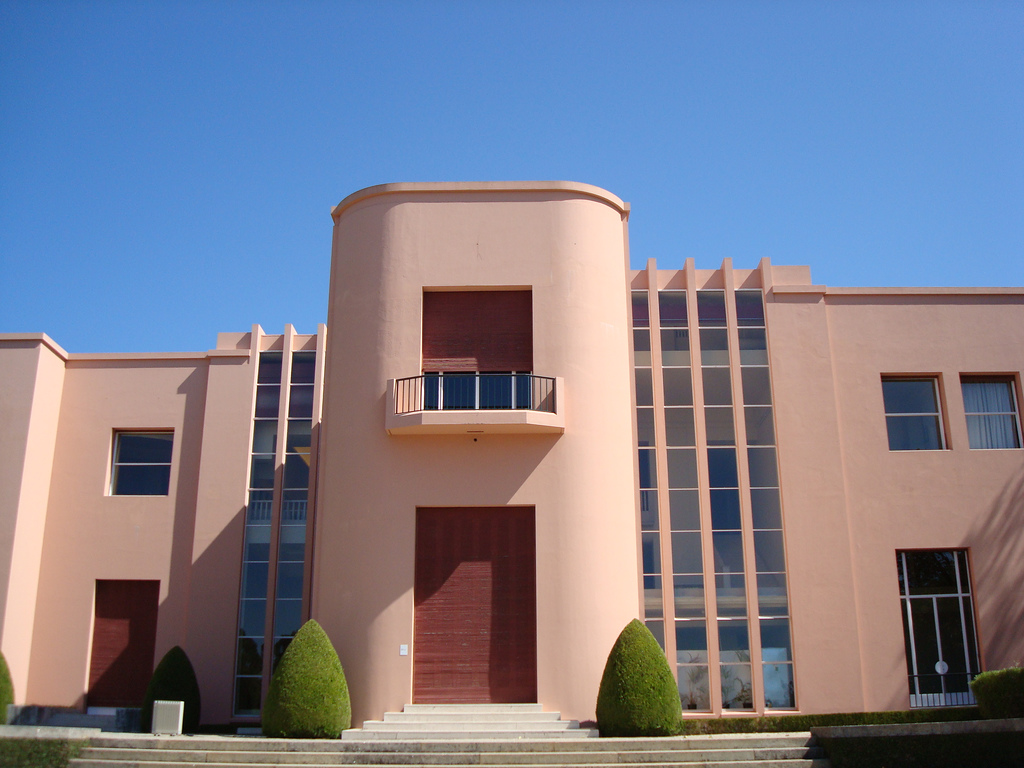serralves: (0, 177, 1023, 734)
